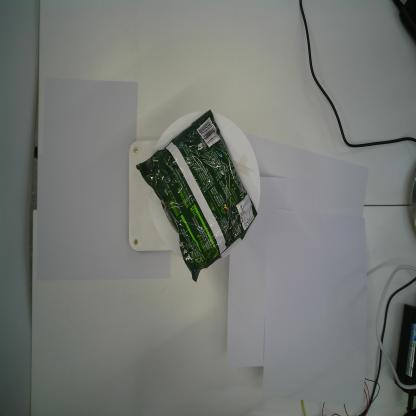Instant Noodles: (136, 108, 258, 283)
